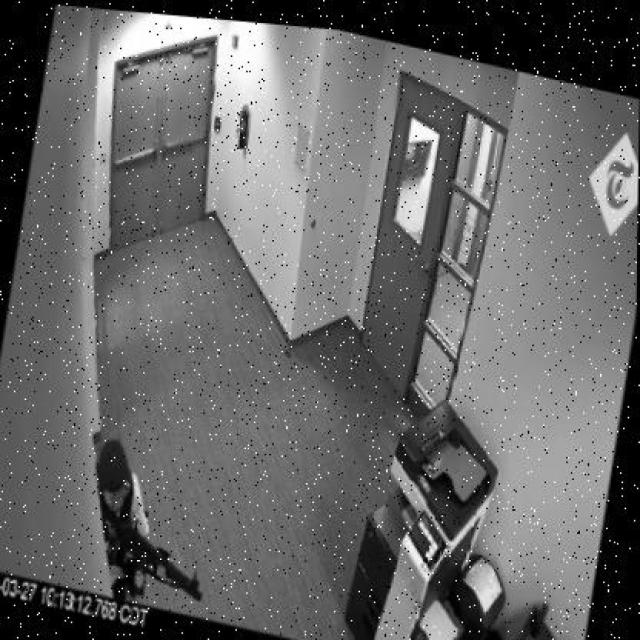weapon: (102, 508, 202, 601)
